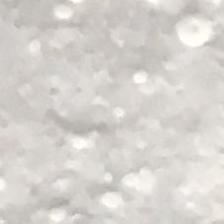Non_Crack: (9, 22, 210, 198)
